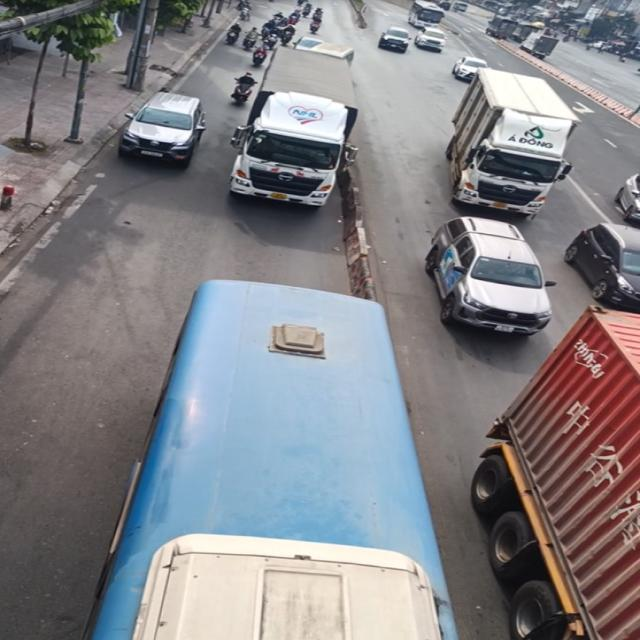car: (412, 216, 562, 346), (122, 86, 213, 168)
truck: (446, 70, 573, 211)
